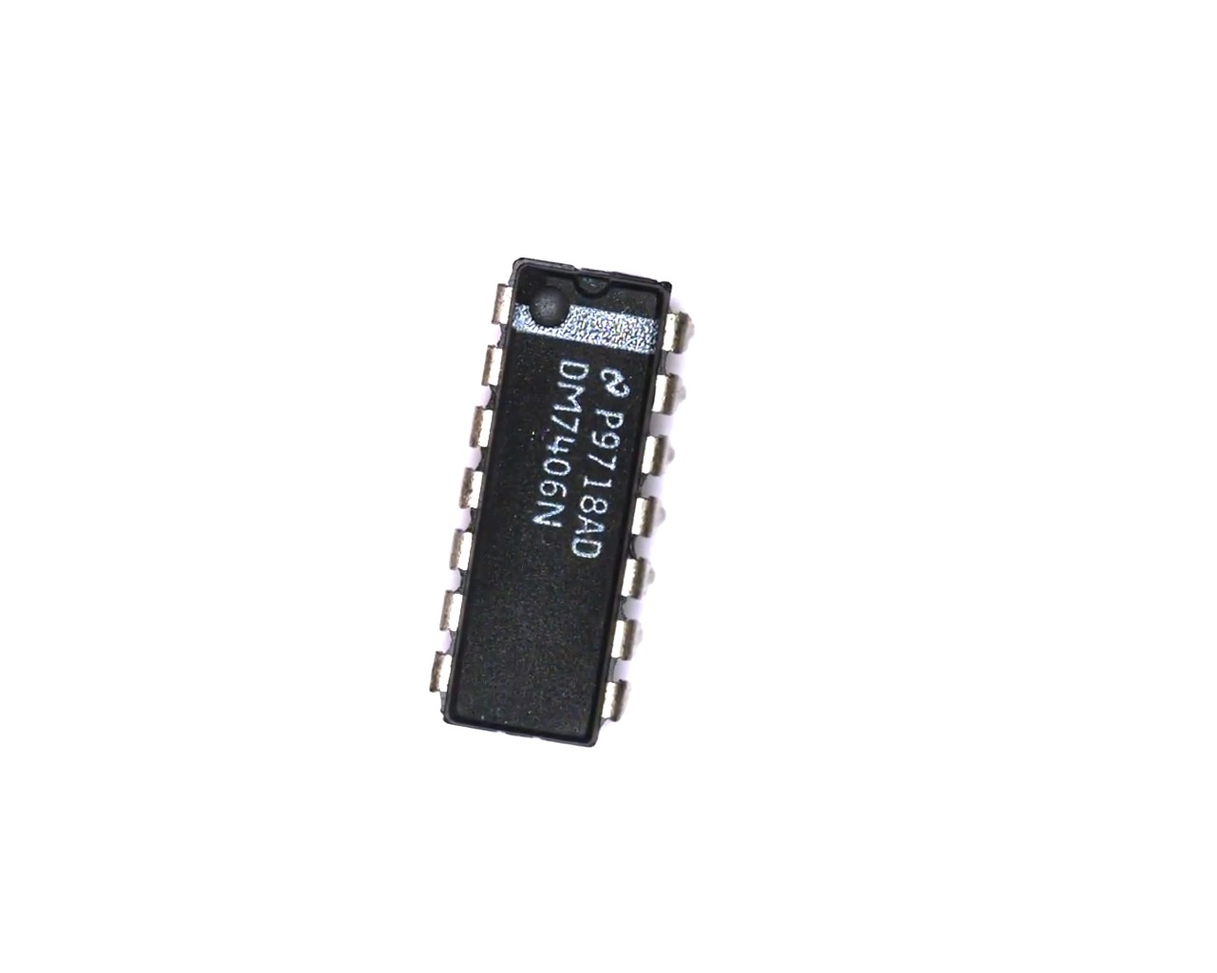IC: (413, 235, 714, 758)
notch: (570, 258, 617, 311)
